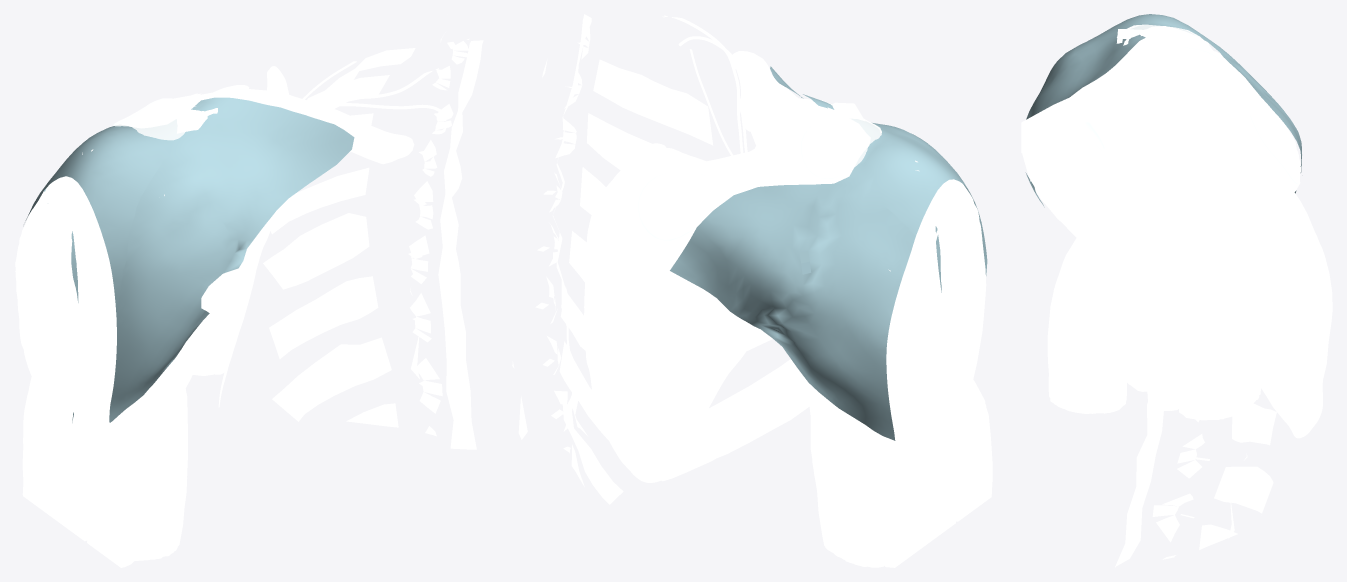
Rendered from rotator_cuff.glb.
3 views of the same model, side by side, from view 1: azimuth 30°, elevation 25°; view 2: azimuth 150°, elevation 25°; view 3: azimuth 270°, elevation 25° (orthographic).
Visible parts, largest first — view 1: Deltoid fascia.r, Internal intercostal membrane.r, Scapular spinal part of deltoid muscle.r, Long head of biceps brachii.r, Acromial part of deltoid muscle.r, Short head of biceps brachii.r, Anterior longitudinal ligament, Lateral head of triceps brachii.r, Radiate ligament of head of rib.r, Clavicle.r, Humerus.r, Scapula.r (+6 smaller); view 2: Deltoid fascia.r, Infraspinatus muscle.r, Scapula.r, Internal intercostal membrane.r, Scapular spinal part of deltoid muscle.r, Lateral head of triceps brachii.r, Long head of triceps brachii.r, Acromial part of deltoid muscle.r, Teres major muscle.r, Subtendinous bursa of trapezius muscle.r, Supraspinatus muscle.r, Clavicle.r (+10 smaller); view 3: Subscapularis muscle.r, Scapula.r, Internal intercostal membrane.r, Short head of biceps brachii.r, Coracobrachialis muscle.r, Long head of triceps brachii.r, Clavicle.r, Anterior longitudinal ligament, Deltoid fascia.r, Teres major muscle.r, Radiate ligament of head of rib.r, Supraspinatus muscle.r (+17 smaller).
Boxes of the visible parts, left/top/right/bottom form: Deltoid fascia.r: left=25, top=97, right=354, bottom=422; Internal intercostal membrane.r: left=263, top=48, right=415, bottom=427; Scapular spinal part of deltoid muscle.r: left=15, top=191, right=85, bottom=423; Long head of biceps brachii.r: left=87, top=384, right=153, bottom=567; Acromial part of deltoid muscle.r: left=44, top=149, right=115, bottom=449; Short head of biceps brachii.r: left=134, top=353, right=187, bottom=560; Anterior longitudinal ligament: left=438, top=40, right=483, bottom=449; Lateral head of triceps brachii.r: left=22, top=350, right=73, bottom=523; Radiate ligament of head of rib.r: left=409, top=38, right=469, bottom=436; Clavicle.r: left=194, top=89, right=414, bottom=164; Humerus.r: left=60, top=413, right=90, bottom=541; Scapula.r: left=125, top=66, right=288, bottom=374; Deltoid fascia.r: left=670, top=66, right=987, bottom=440; Infraspinatus muscle.r: left=588, top=235, right=748, bottom=420; Scapula.r: left=583, top=126, right=869, bottom=482; Internal intercostal membrane.r: left=559, top=59, right=713, bottom=504; Scapular spinal part of deltoid muscle.r: left=657, top=202, right=955, bottom=436; Lateral head of triceps brachii.r: left=864, top=381, right=940, bottom=567; Long head of triceps brachii.r: left=808, top=382, right=884, bottom=567; Acromial part of deltoid muscle.r: left=845, top=156, right=982, bottom=429; Teres major muscle.r: left=661, top=359, right=809, bottom=481; Subtendinous bursa of trapezius muscle.r: left=637, top=171, right=722, bottom=240; Supraspinatus muscle.r: left=610, top=144, right=801, bottom=220; Clavicle.r: left=732, top=51, right=832, bottom=139; Subscapularis muscle.r: left=1091, top=125, right=1308, bottom=387; Scapula.r: left=1079, top=35, right=1322, bottom=438; Internal intercostal membrane.r: left=1128, top=122, right=1276, bottom=549; Short head of biceps brachii.r: left=1048, top=127, right=1126, bottom=413; Coracobrachialis muscle.r: left=1068, top=122, right=1146, bottom=385; Long head of triceps brachii.r: left=1164, top=205, right=1260, bottom=420; Clavicle.r: left=1021, top=38, right=1185, bottom=152; Anterior longitudinal ligament: left=1101, top=147, right=1171, bottom=567; Deltoid fascia.r: left=1025, top=14, right=1301, bottom=207; Teres major muscle.r: left=1128, top=194, right=1288, bottom=425; Radiate ligament of head of rib.r: left=1111, top=146, right=1211, bottom=559; Supraspinatus muscle.r: left=1166, top=71, right=1278, bottom=181.
Size of the model in its own units: 0.198 by 0.202 by 0.1371.
